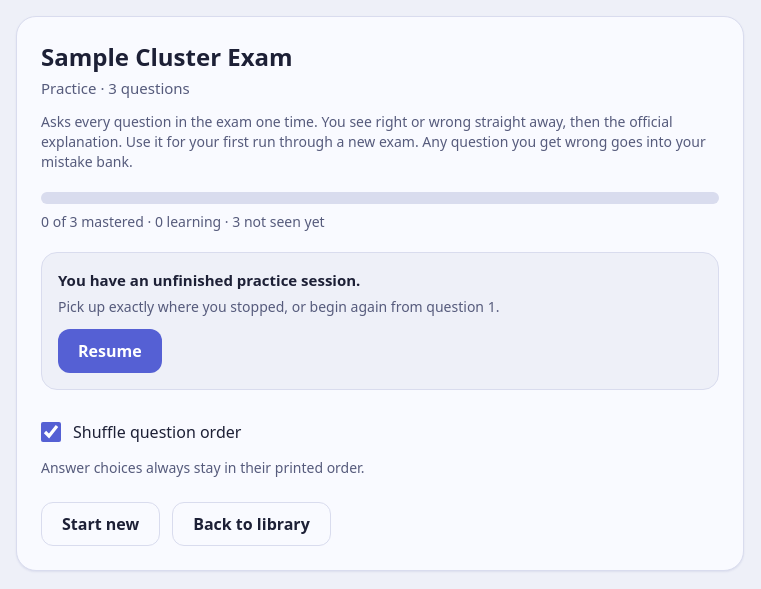
PracticeScreen › "Start new" begins a fresh session from question 1
The width and height of the screenshot is (761, 589).
Click the button "Start new" at (101, 524), box [41,502,160,546]
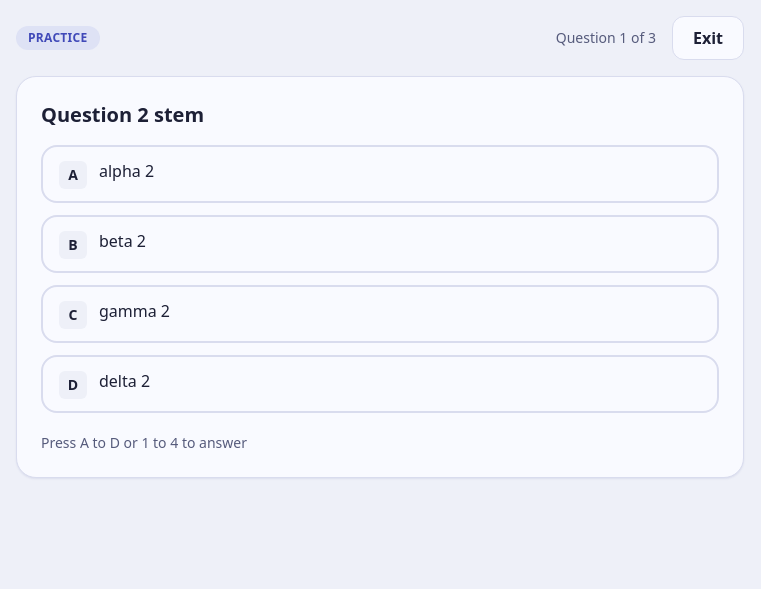
Result: the text "Question 1 of 3" is shown at [556,28,656,48]
